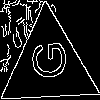G: (23, 40, 67, 82)
